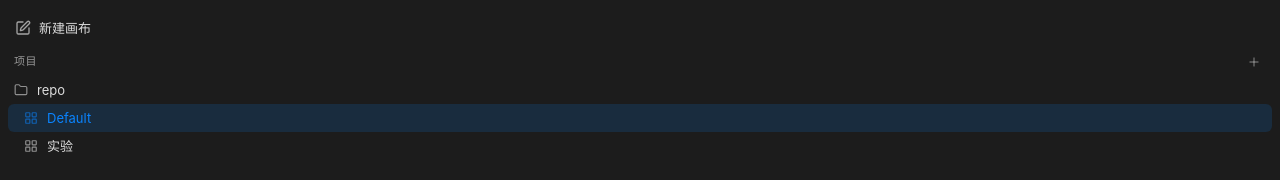
it: WorkspaceTree › 双击画布在原位改名，Enter保存并同步当前列表
Double-click the button "实验" at {"x": 60, "y": 146}, box [42,132,1240,160]
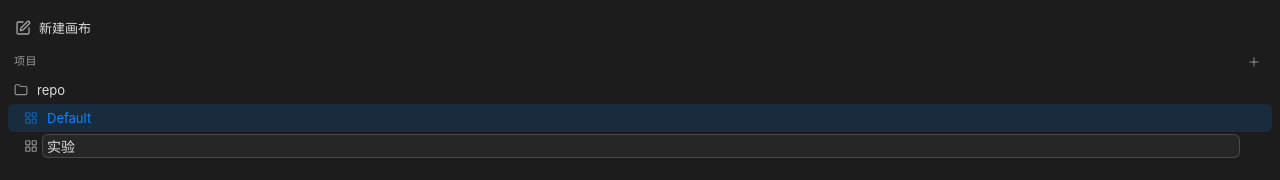
Replace the text in the field named "画布名称" with "  新实验  " at {"x": 641, "y": 146}, box [42,134,1240,158]
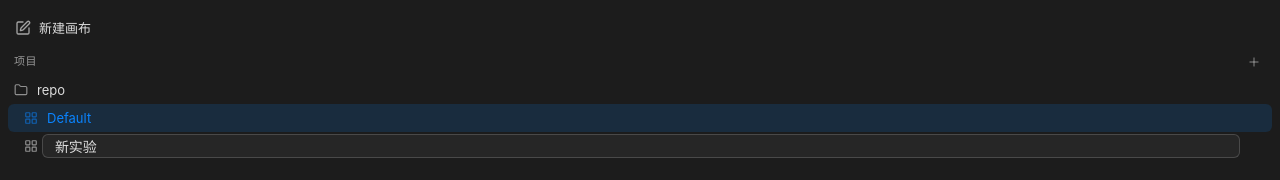
Press Enter in the field named "画布名称", box [42,134,1240,158]
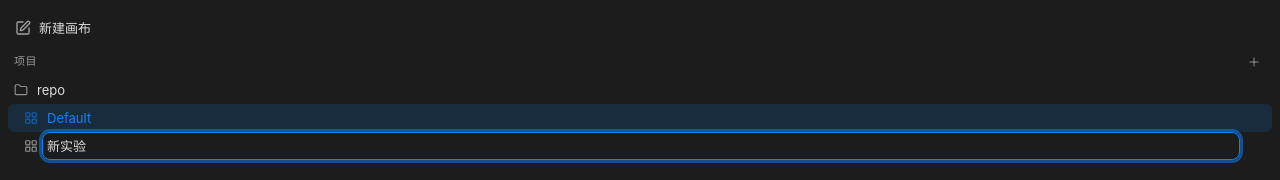
Expected: the text "新实验" is shown, [47,137,86,155]
